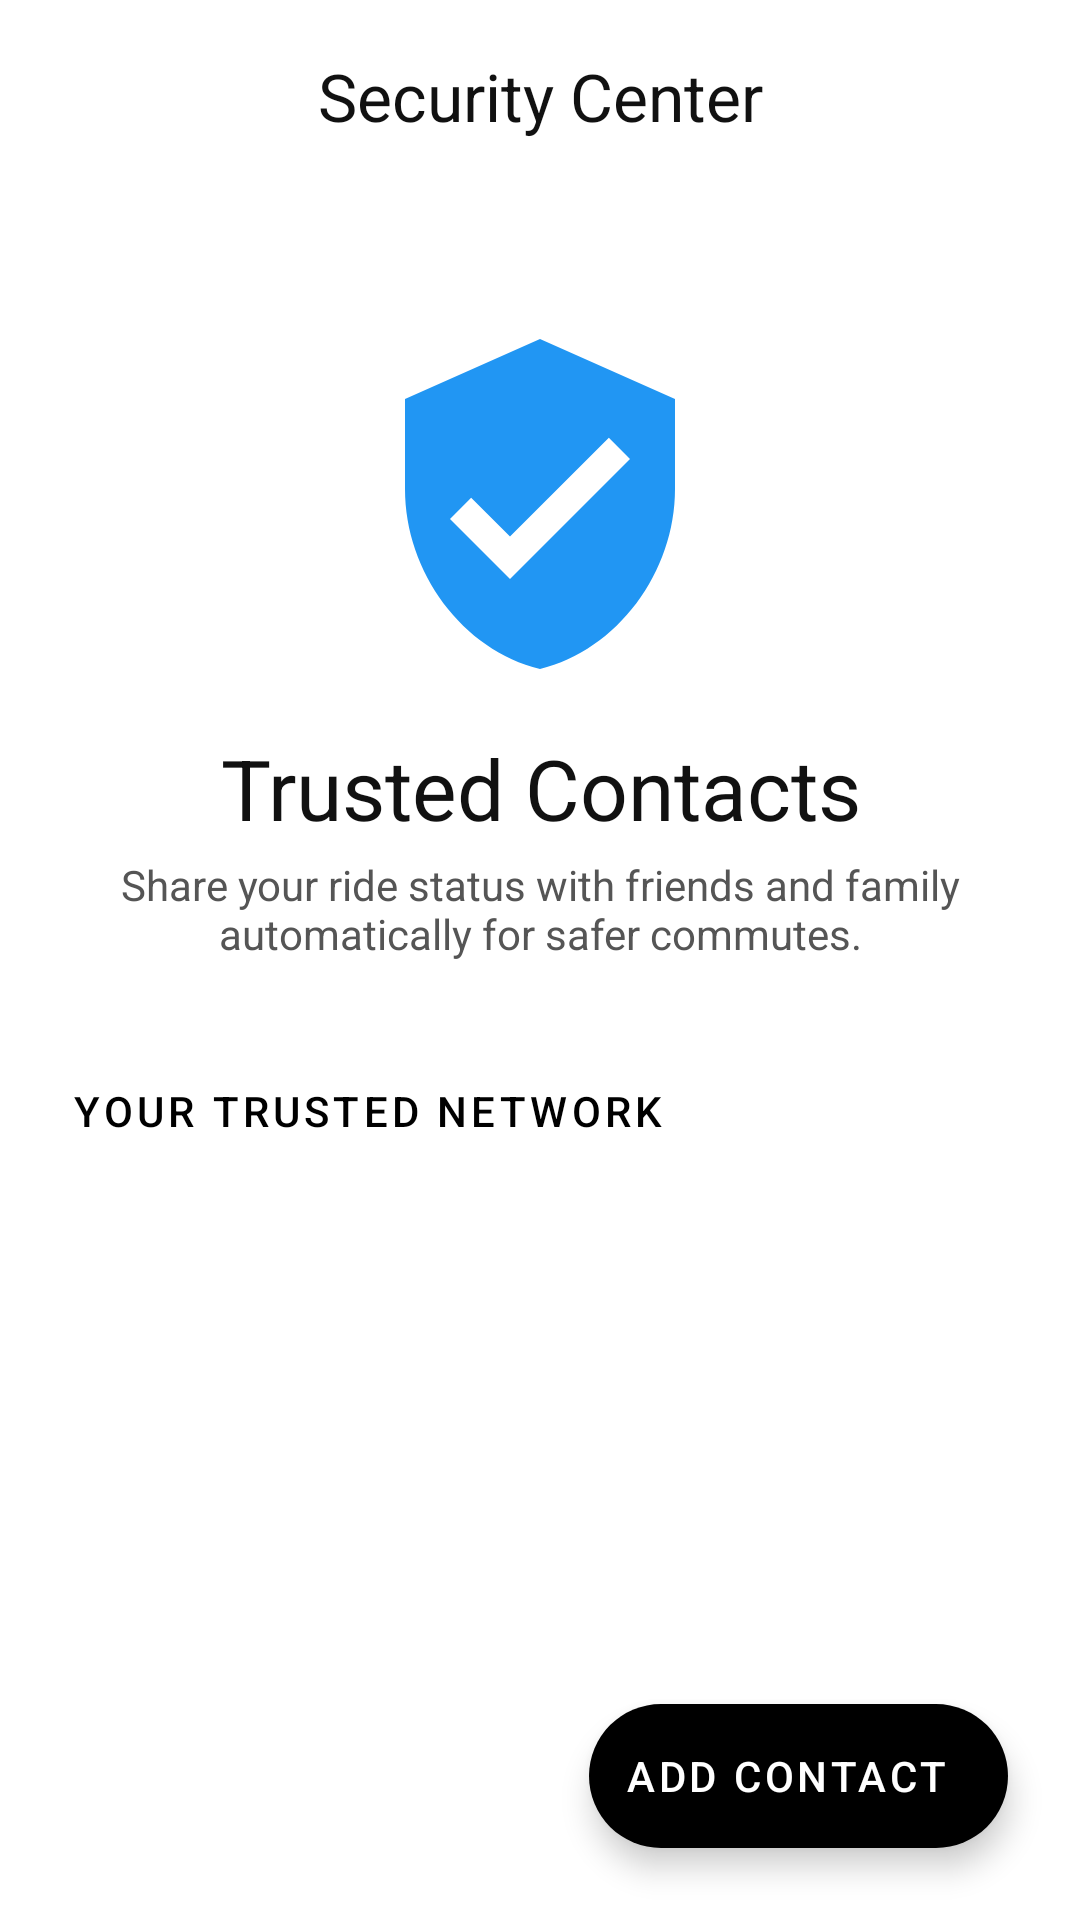

Icons on this 1080×1920 Android screen, each with its box as bbox=[x1, y1, x2, y2]:
Security Shield: bbox=[405, 339, 675, 669]
